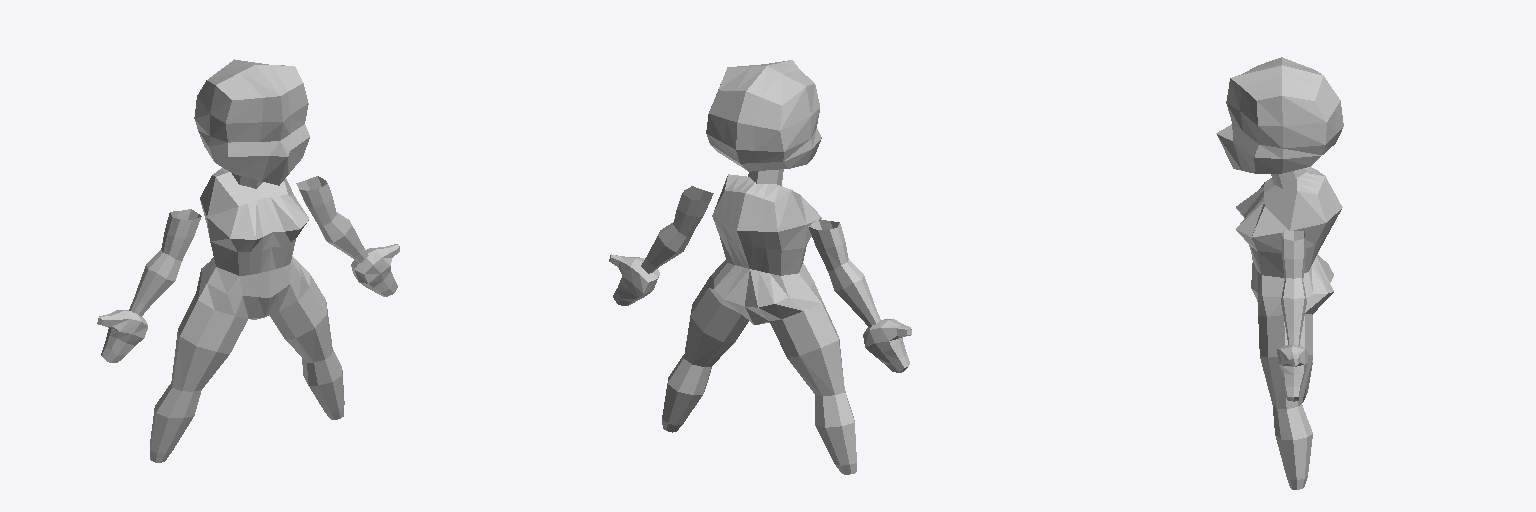
Rendered from under paint meshes.obj.
3 renders of one model, left to right at view 1: azimuth 30°, elevation 25°; view 2: azimuth 150°, elevation 25°; view 3: azimuth 270°, elevation 25°, orthographic.
Parts seen in each view (by area): view 1: Cube.003, Cube.001, Cube.005, Cube.008; view 2: Cube.003, Cube.001, Cube.005, Cube.008; view 3: Cube.003, Cube.001, Cube.005, Cube.008.
Part boxes in pixels (bbox=[...]): Cube.003: bbox=[150, 167, 344, 462]; Cube.001: bbox=[194, 59, 309, 185]; Cube.005: bbox=[129, 176, 368, 316]; Cube.008: bbox=[97, 244, 399, 362]; Cube.003: bbox=[662, 174, 856, 474]; Cube.001: bbox=[706, 60, 821, 171]; Cube.005: bbox=[641, 186, 880, 327]; Cube.008: bbox=[609, 254, 911, 372]; Cube.003: bbox=[1236, 167, 1342, 489]; Cube.001: bbox=[1216, 57, 1343, 173]; Cube.005: bbox=[1281, 231, 1306, 345]; Cube.008: bbox=[1277, 345, 1307, 401].
Bounding box in the file's own units: 6.84 × 8.23 × 2.5.